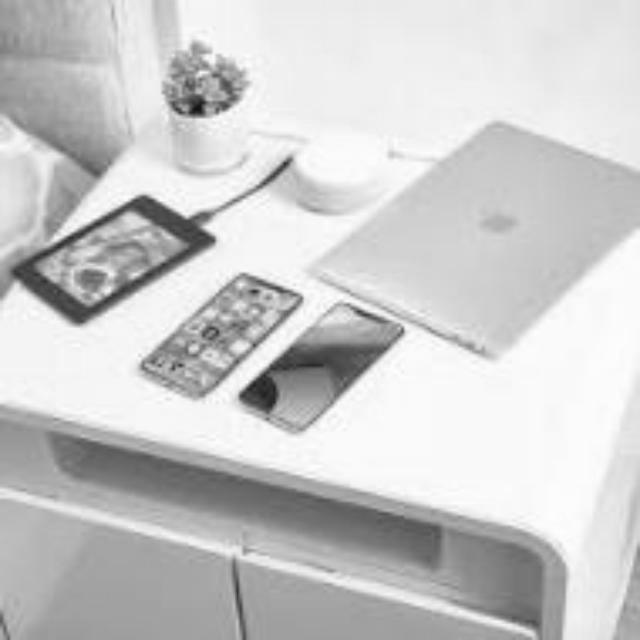fake: (142, 258, 410, 446)
